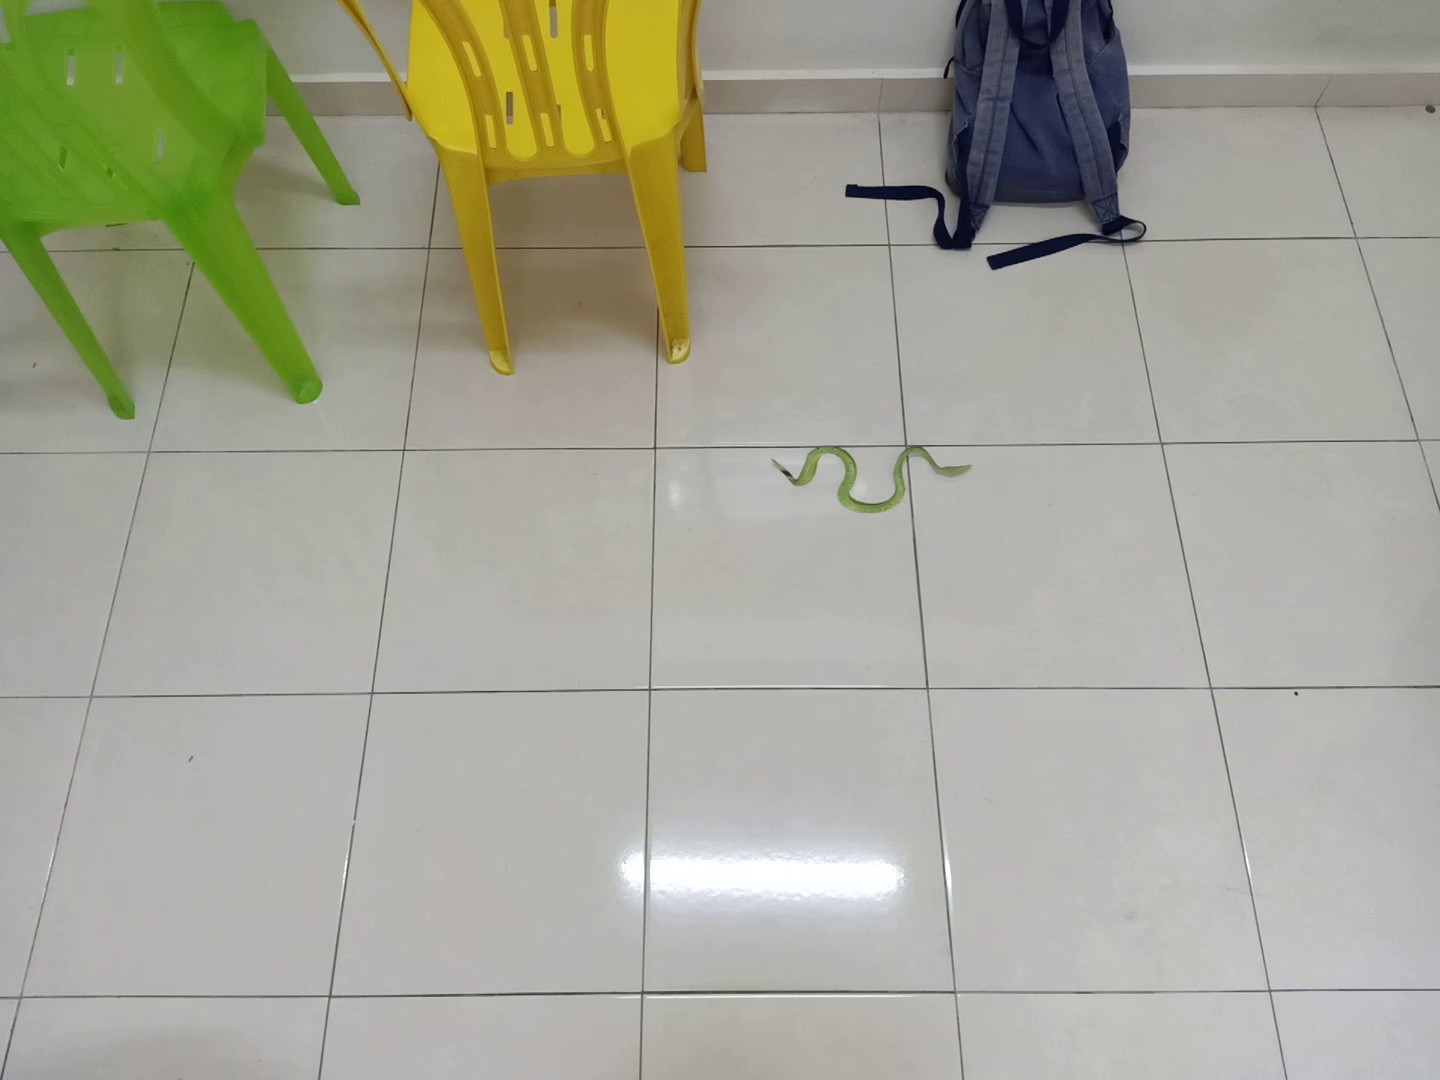snake: (771, 440, 984, 517)
